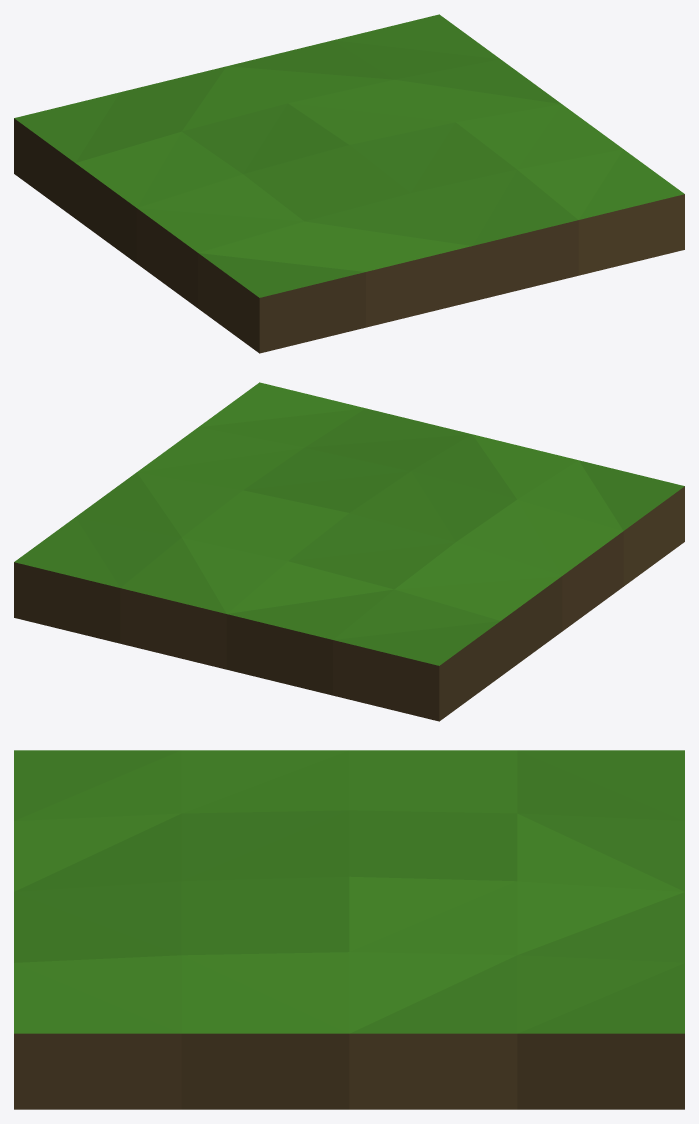
The model's file is T01_Ground_Flat_2m.fbx.
3 views of the same model, one above another, from view 1: azimuth 30°, elevation 25°; view 2: azimuth 150°, elevation 25°; view 3: azimuth 270°, elevation 25° (orthographic). The views are drawn at different scales.
Visible parts, largest first — view 1: T01_Ground_Flat_2m; view 2: T01_Ground_Flat_2m; view 3: T01_Ground_Flat_2m.
Boxes of the visible parts, bbox=[...] form: T01_Ground_Flat_2m: bbox=[14, 14, 684, 353]; T01_Ground_Flat_2m: bbox=[14, 382, 684, 721]; T01_Ground_Flat_2m: bbox=[14, 750, 684, 1109].
Bounding box in the file's own units: 2 × 0.3 × 2.
Materials: 2 (2 with a texture image).
